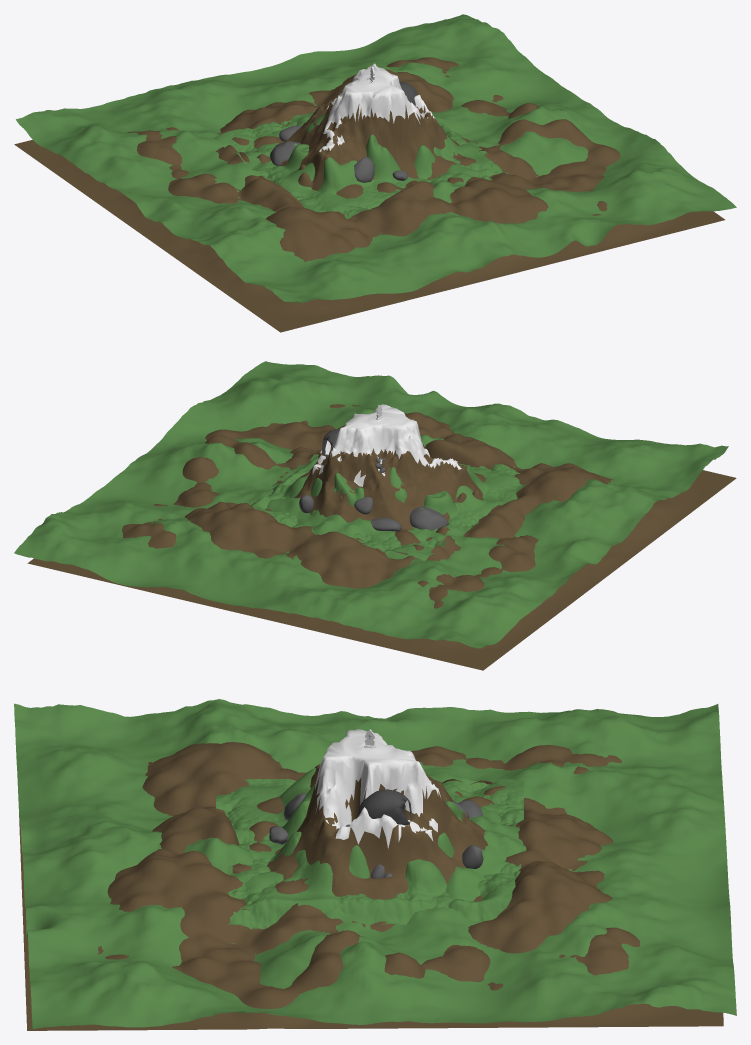
The model's file is mountains.fbx.
The picture shows the model from 3 angles, top to bottom: view 1: azimuth 30°, elevation 25°; view 2: azimuth 150°, elevation 25°; view 3: azimuth 270°, elevation 25°; orthographic projection. The views are drawn at different scales.
Parts seen in each view (by area): view 1: Landscape.004, Landscape.003, Landscape, Landscape.010; view 2: Landscape.004, Landscape.003, Landscape, Landscape.010, Icosphere.002; view 3: Landscape.004, Landscape.003, Landscape, Landscape.010, cave.
Part boxes in pixels (x1=…): Landscape.004: x1=16, y1=14, x2=736, y2=302; Landscape.003: x1=14, y1=57, x2=725, y2=332; Landscape: x1=232, y1=63, x2=505, y2=212; Landscape.010: x1=213, y1=113, x2=508, y2=219; Landscape.004: x1=14, y1=361, x2=728, y2=648; Landscape.003: x1=27, y1=404, x2=736, y2=670; Landscape: x1=265, y1=404, x2=485, y2=554; Landscape.010: x1=251, y1=456, x2=526, y2=561; Icosphere.002: x1=409, y1=506, x2=448, y2=530; Landscape.004: x1=14, y1=699, x2=736, y2=1029; Landscape.003: x1=19, y1=742, x2=723, y2=1030; Landscape: x1=232, y1=729, x2=505, y2=909; Landscape.010: x1=216, y1=768, x2=523, y2=929; cave: x1=358, y1=789, x2=412, y2=825.
Bounding box in the file's own units: 40377 × 9536 × 40081.
